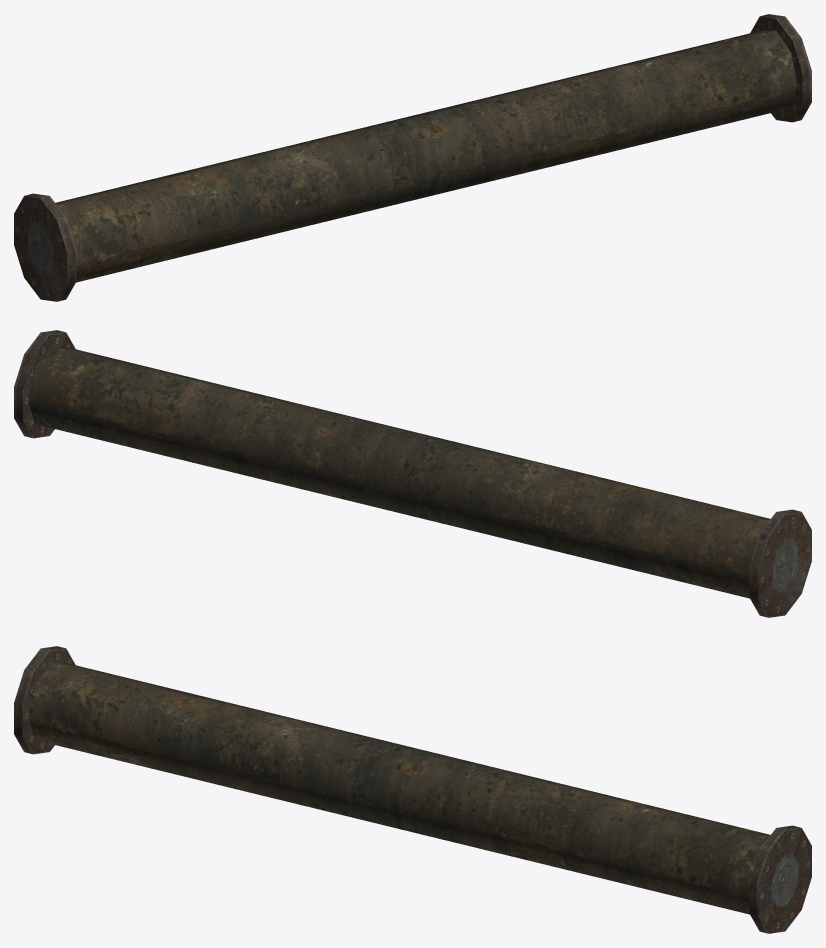
Rendered from SM_Pipe_Small_A.fbx.
3 renders of one model, top to bottom at view 1: azimuth 30°, elevation 25°; view 2: azimuth 150°, elevation 25°; view 3: azimuth 330°, elevation 25°, orthographic.
Visible parts, largest first — view 1: SM_Pipe_Small_A; view 2: SM_Pipe_Small_A; view 3: SM_Pipe_Small_A.
Boxes of the visible parts, <box> form: SM_Pipe_Small_A: <box>14,14,811,301</box>; SM_Pipe_Small_A: <box>14,330,811,617</box>; SM_Pipe_Small_A: <box>14,646,811,933</box>.
Size of the model in its own units: 200 by 26 by 24.73.
